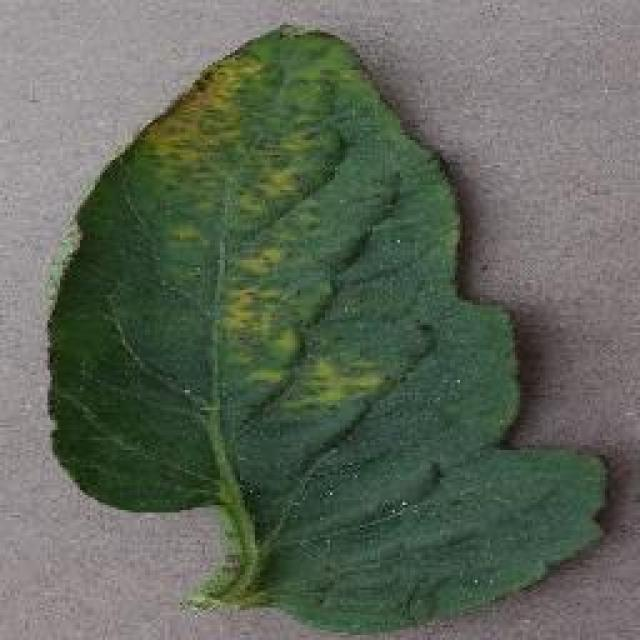Tomato bacterial spot leaf: (43, 16, 619, 640)
